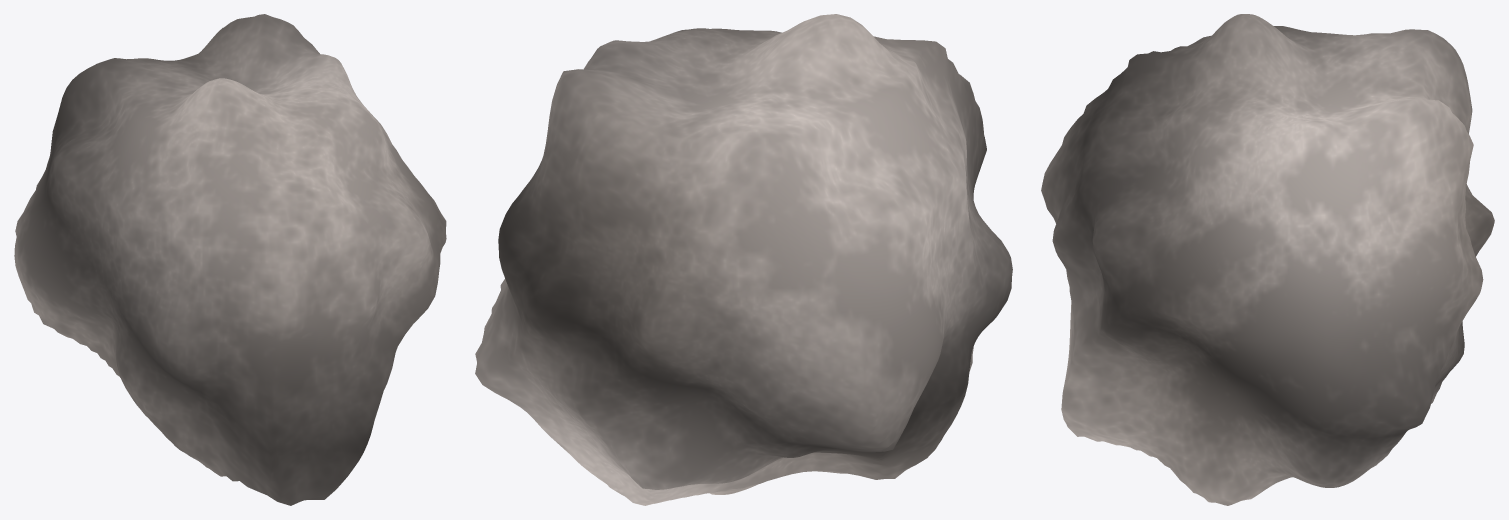
File: asteroid-gem.glb
3 views of the same model, side by side, from view 1: azimuth 30°, elevation 25°; view 2: azimuth 150°, elevation 25°; view 3: azimuth 270°, elevation 25° (orthographic). The views are drawn at different scales.
Parts seen in each view (by area): view 1: asteroid_3003; view 2: asteroid_3003; view 3: asteroid_3003.
Boxes of the visible parts, left/top/right/bottom form: asteroid_3003: left=14, top=14, right=446, bottom=505; asteroid_3003: left=475, top=14, right=1012, bottom=505; asteroid_3003: left=1041, top=14, right=1494, bottom=505.
Size of the model in its own units: 63.52 by 71.36 by 66.78.
1 material, 1 textured.
